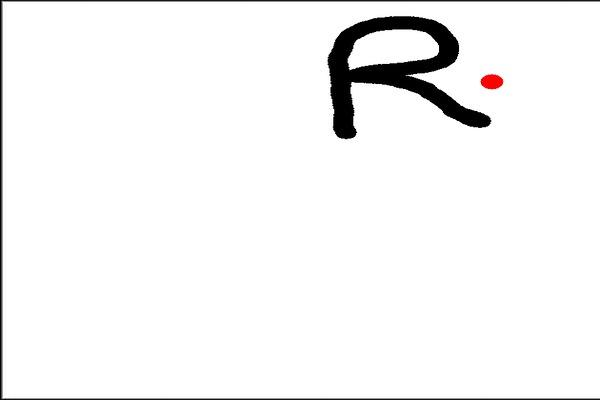R: (323, 6, 491, 140)
